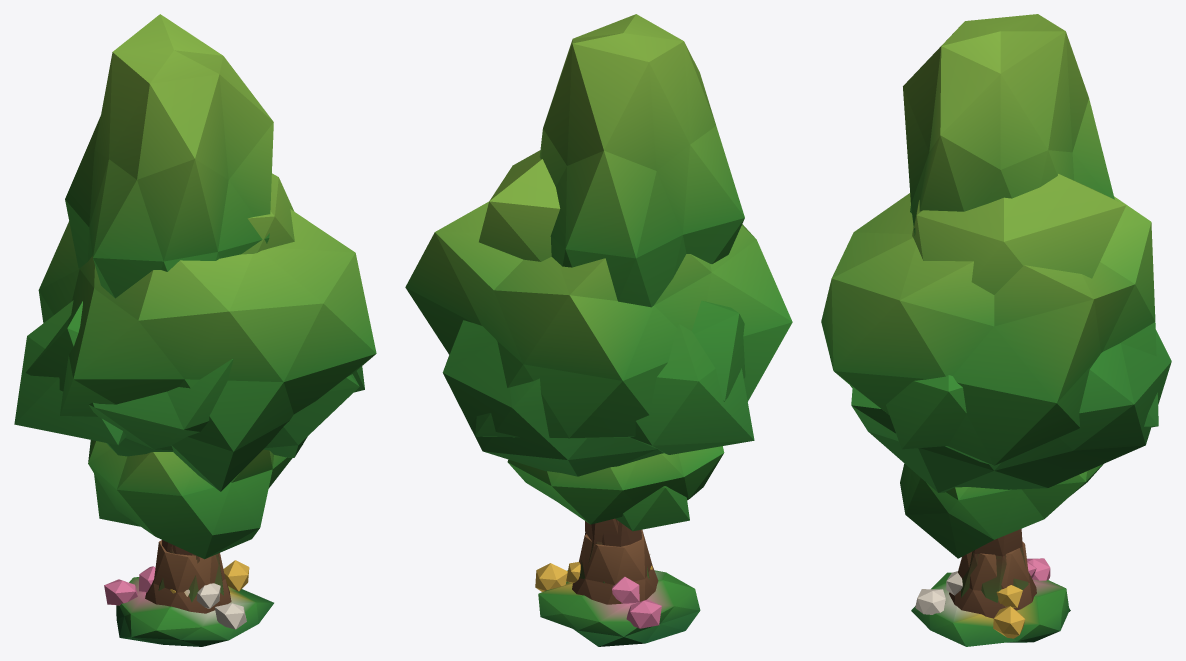
File: Map_Baeume.fbx
3 renders of one model, left to right at view 1: azimuth 30°, elevation 25°; view 2: azimuth 150°, elevation 25°; view 3: azimuth 270°, elevation 25°, orthographic. The views are drawn at different scales.
Parts seen in each view (by area): view 1: Map_Baum_A, Map_Baum_B, Map_Baum_D, Map_Baum_C, Map_Blumen_A, Map_Stumpf_A; view 2: Map_Baum_A, Map_Baum_B, Map_Baum_C, Map_Baum_D, Map_Blumen_A, Map_Stumpf_A; view 3: Map_Baum_A, Map_Baum_C, Map_Baum_B, Map_Baum_D, Map_Blumen_A, Map_Stumpf_A.
Part boxes in pixels (x1,y1,x2,y2): Map_Baum_A: (14,209,376,560); Map_Baum_B: (65,14,273,555); Map_Baum_D: (88,440,292,559); Map_Baum_C: (25,173,359,602); Map_Blumen_A: (116,566,273,646); Map_Stumpf_A: (104,540,249,629); Map_Baum_A: (405,201,792,550); Map_Baum_B: (539,14,744,546); Map_Baum_C: (442,150,745,583); Map_Baum_D: (507,446,724,531); Map_Blumen_A: (538,562,700,646); Map_Stumpf_A: (535,529,661,628); Map_Baum_A: (821,193,1158,563); Map_Baum_C: (851,174,1171,602); Map_Baum_B: (903,14,1114,235); Map_Baum_D: (900,463,1103,558); Map_Blumen_A: (911,561,1070,646); Map_Stumpf_A: (915,541,1050,638).
Bounding box in the file's own units: 11.97 × 20.61 × 10.79.
